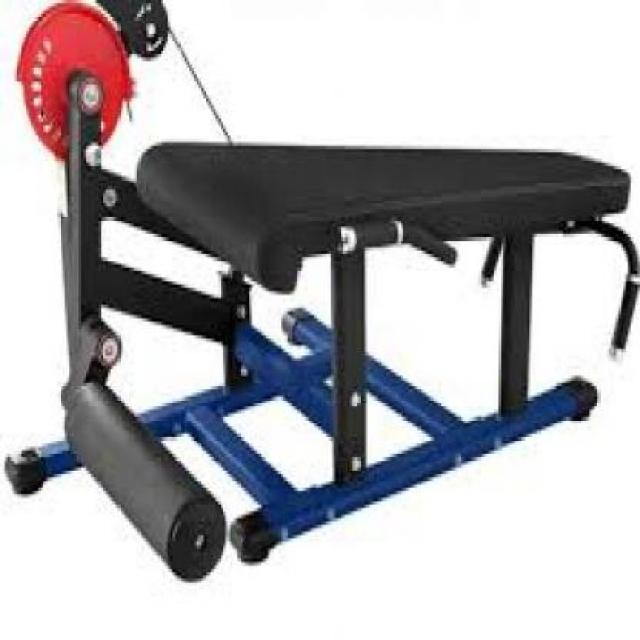reg curl machine: (7, 3, 638, 586)
